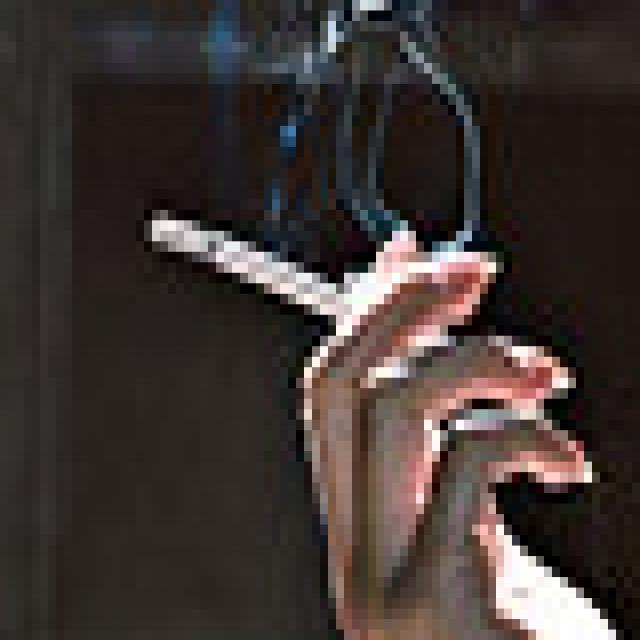smoking: (150, 209, 380, 339)
